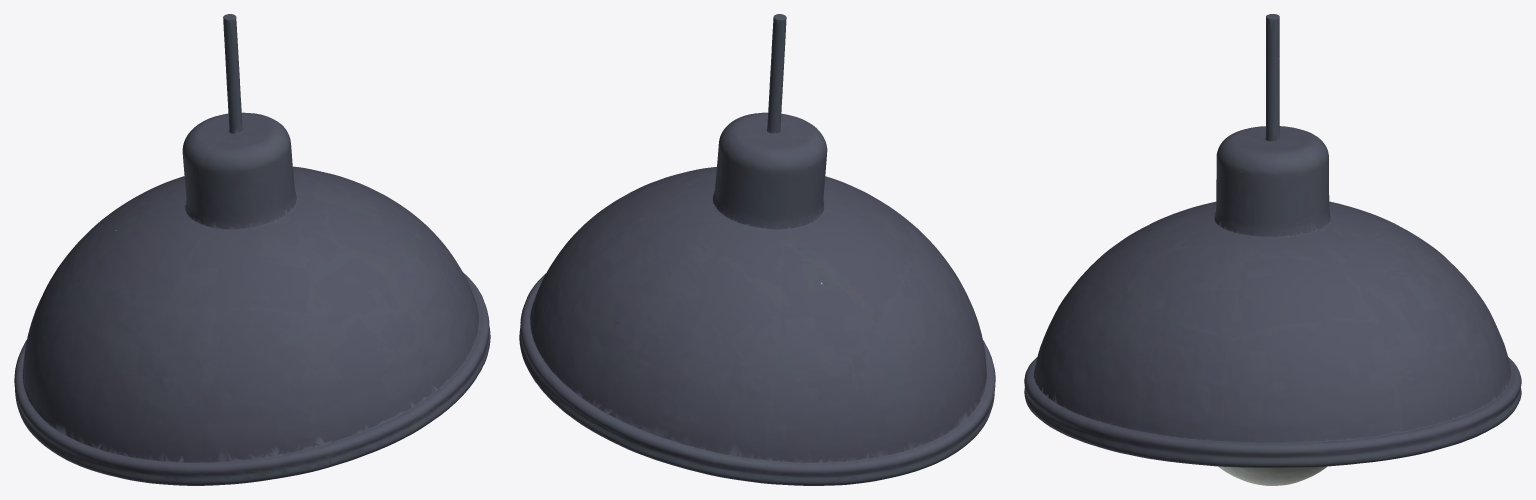
The model's file is lamp-web.glb.
3 views of the same model, side by side, from view 1: azimuth 30°, elevation 25°; view 2: azimuth 150°, elevation 25°; view 3: azimuth 270°, elevation 25° (orthographic). The views are drawn at different scales.
Parts seen in each view (by area): view 1: tripo_node_7eabf5ba-f41d-43ff-8bb8-299e2da52b65; view 2: tripo_node_7eabf5ba-f41d-43ff-8bb8-299e2da52b65; view 3: tripo_node_7eabf5ba-f41d-43ff-8bb8-299e2da52b65.
Boxes of the visible parts, x1,y1,x2,y2 form: tripo_node_7eabf5ba-f41d-43ff-8bb8-299e2da52b65: (14,14,490,485); tripo_node_7eabf5ba-f41d-43ff-8bb8-299e2da52b65: (519,14,995,485); tripo_node_7eabf5ba-f41d-43ff-8bb8-299e2da52b65: (1024,14,1521,485).
Size of the model in its own units: 0.993 by 1 by 0.9977.
Materials: 1 (1 with a texture image).
